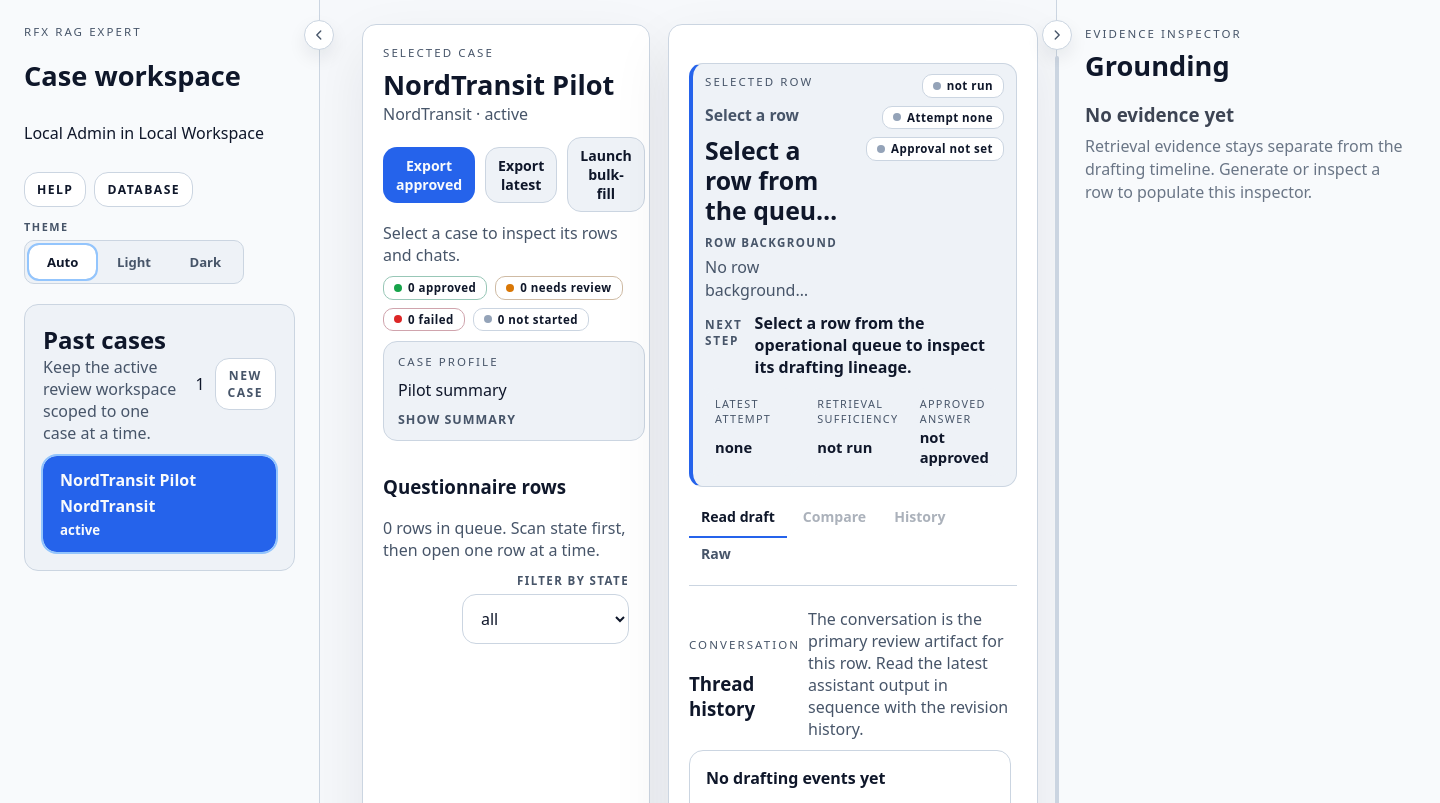
Test: App › shows placeholder counts after approved export
Click the button "Export approved". click: (429, 174)
box: [383,146,475,202]
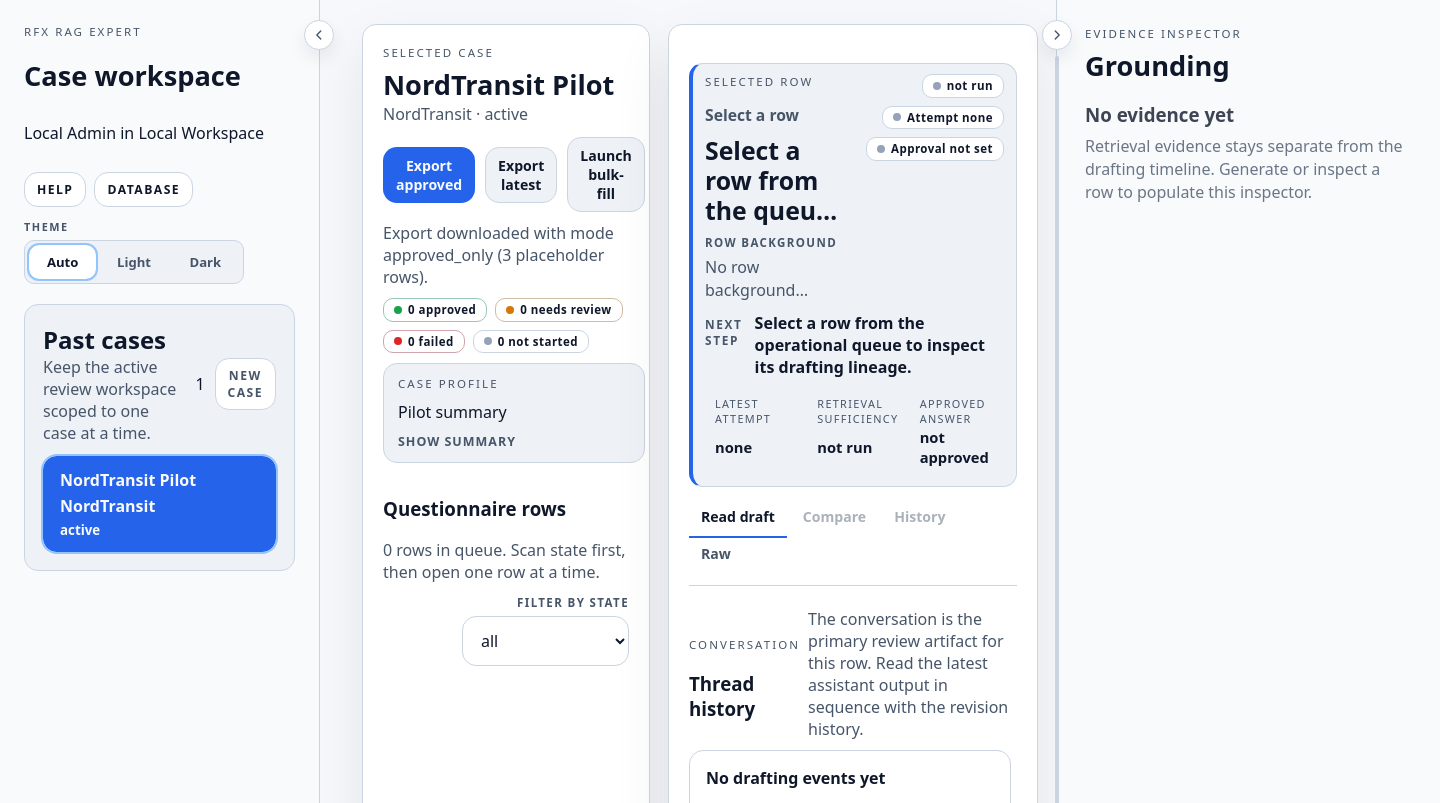
expect the text "Export downloaded with mode approved_only (3 placeholder rows)." is shown: met, box [383,222,645,288]
